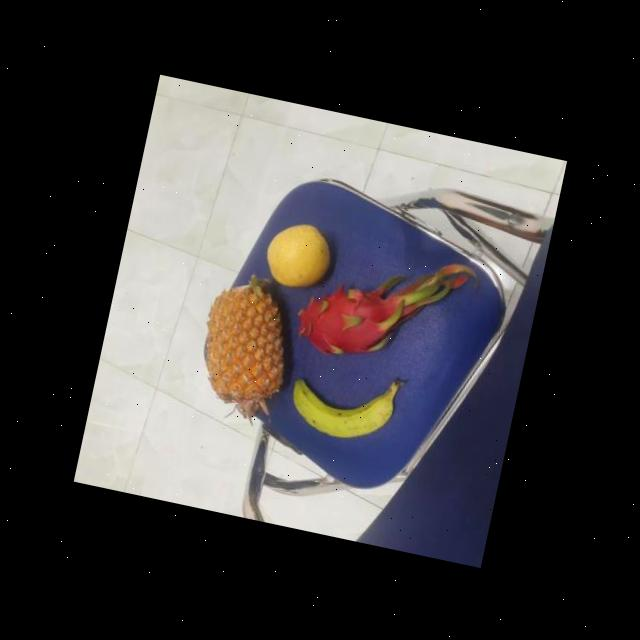banana: (284, 361, 399, 446)
pear: (259, 212, 339, 294)
pineapple: (186, 270, 304, 416)
pitaya: (291, 267, 402, 366)
